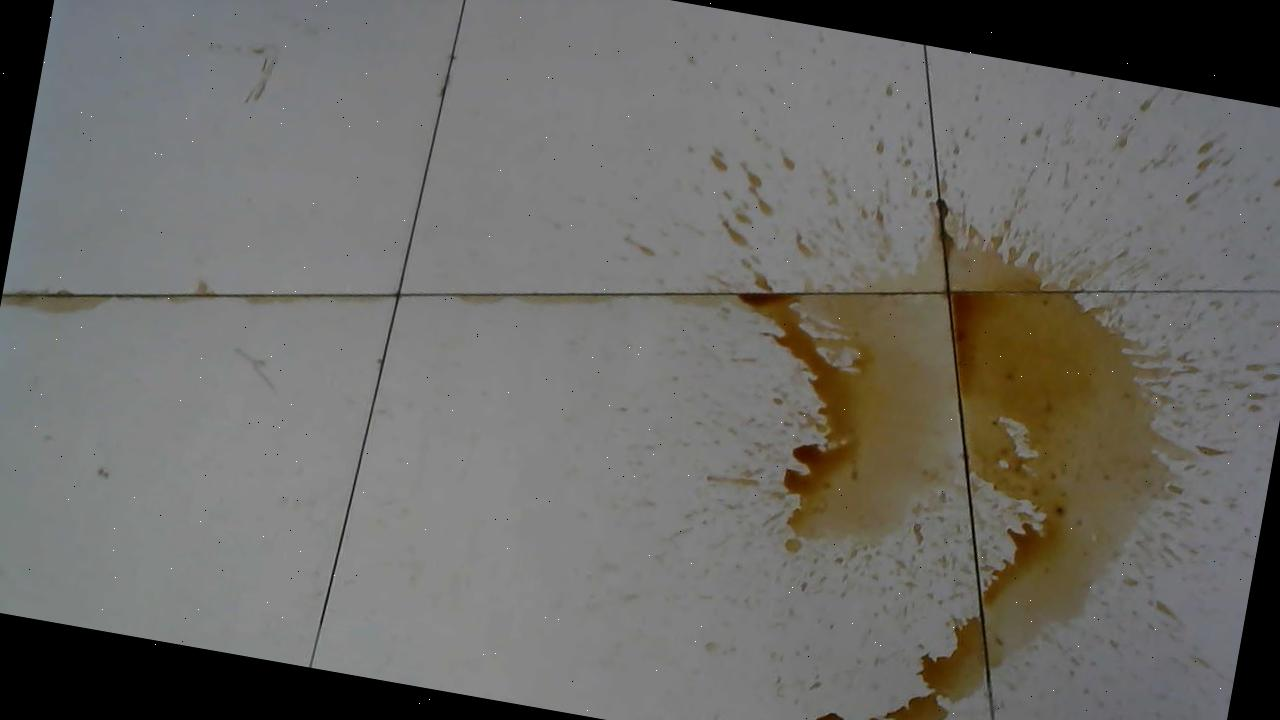dirty_floor: (590, 57, 1280, 720)
